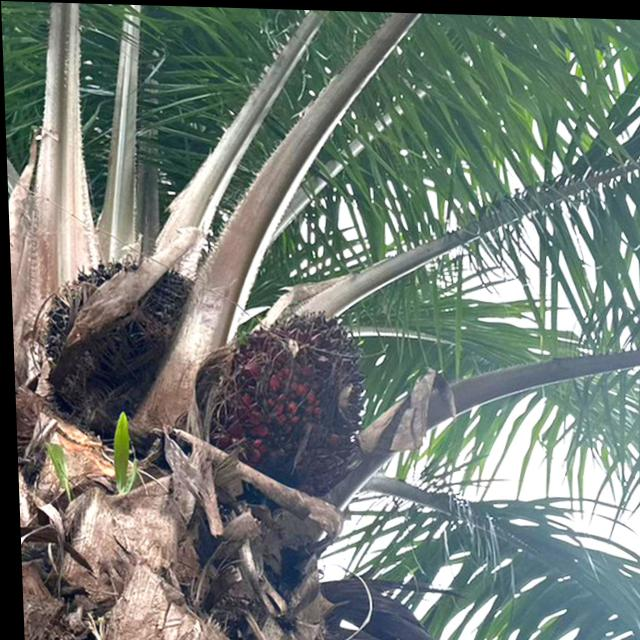ripe: (172, 286, 386, 494)
